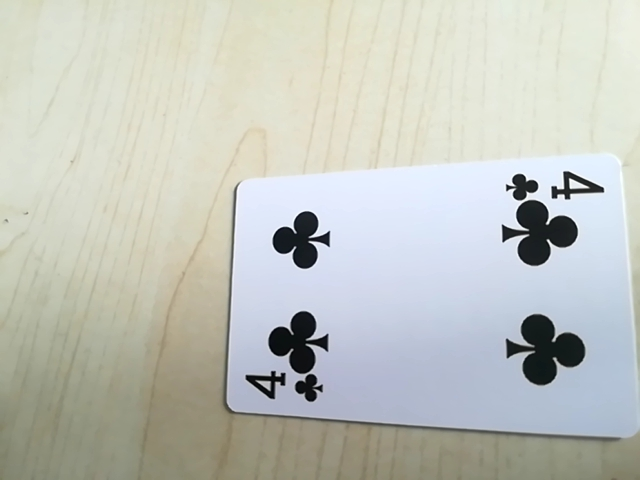mh 4: (501, 163, 603, 204), (239, 368, 329, 406)
